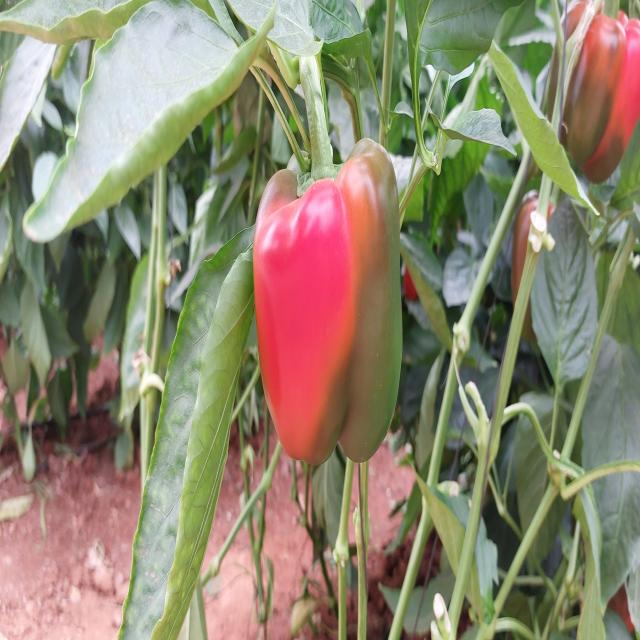BrownishRed--Can-be-Harvested: (254, 172, 407, 468)
